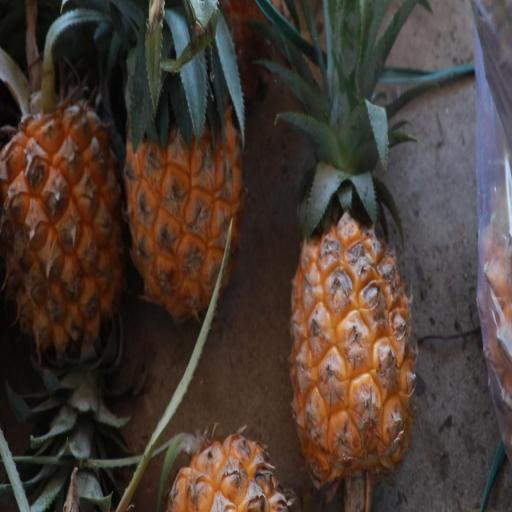Pineapple - v8 v1: (283, 130, 422, 491), (0, 44, 125, 373), (121, 12, 249, 325)
